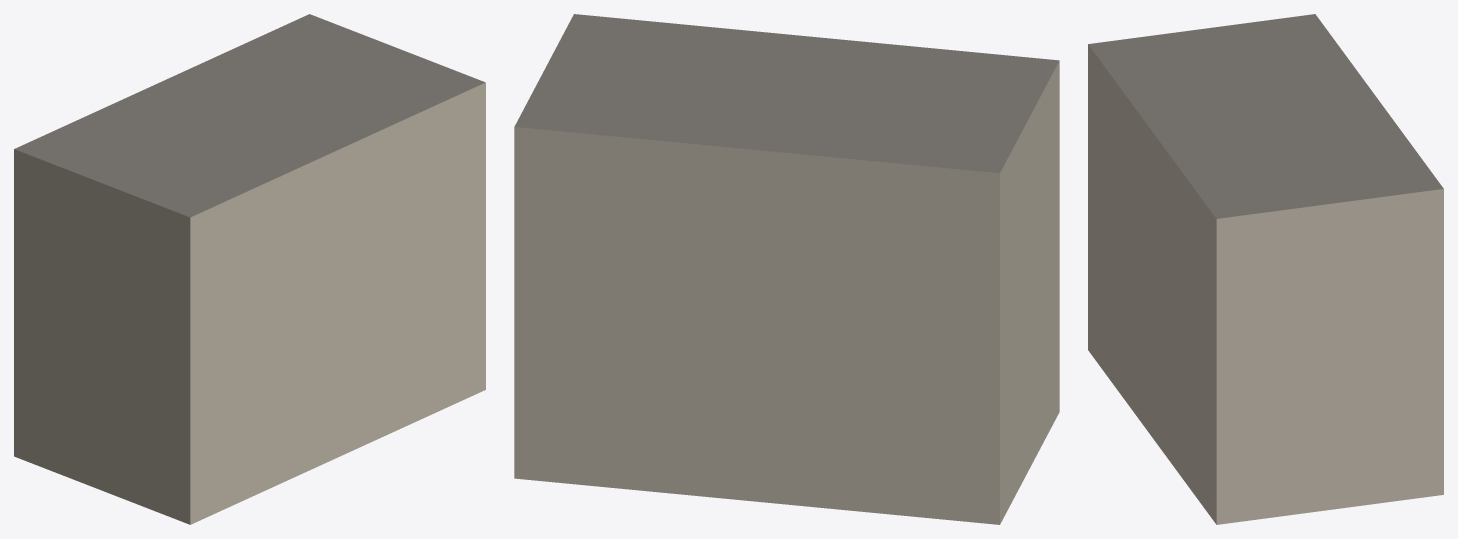
3 views of the same model, side by side, from view 1: azimuth 30°, elevation 25°; view 2: azimuth 150°, elevation 25°; view 3: azimuth 270°, elevation 25° (orthographic). The views are drawn at different scales.
Visible parts, largest first — view 1: HP-w389701934; view 2: HP-w389701934; view 3: HP-w389701934.
Part boxes in pixels (x1,y1,x2,y2): HP-w389701934: (14,14,485,524); HP-w389701934: (514,14,1059,524); HP-w389701934: (1088,14,1443,524).
Size of the model in its own units: 25.86 by 18 by 18.97.
